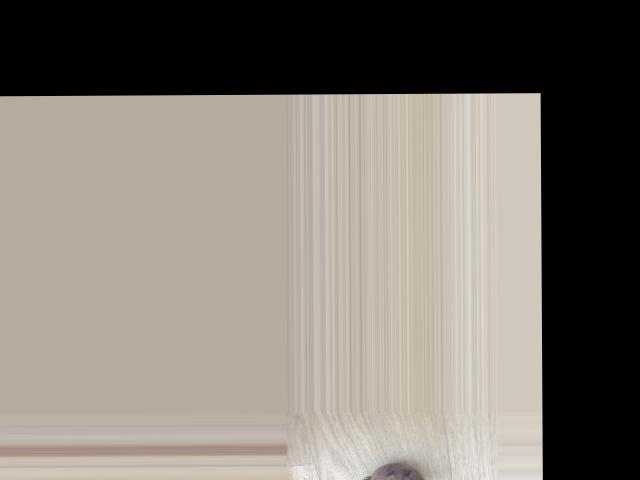beet: (363, 463, 472, 480)
